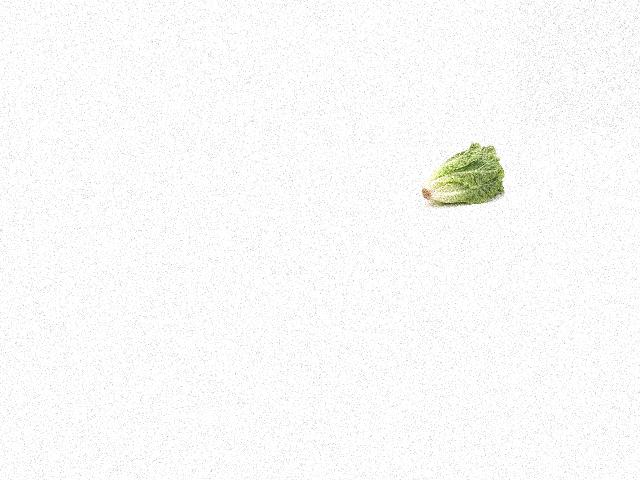lettuce: (418, 142, 504, 206)
